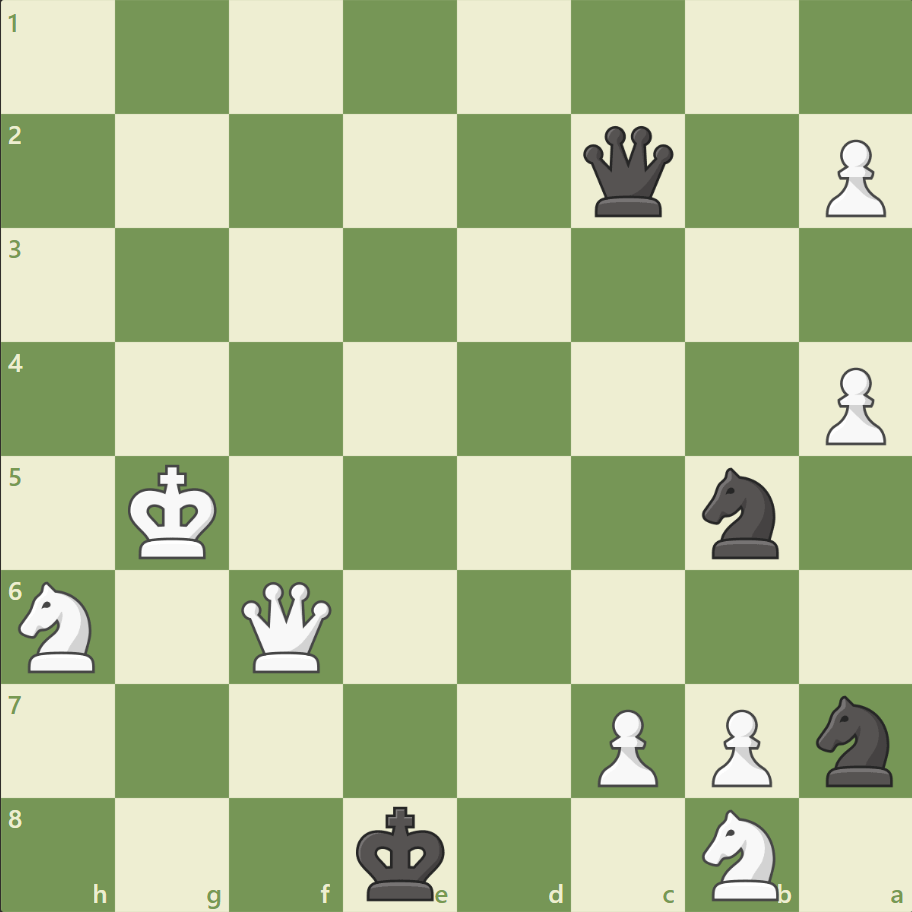K: (124, 458, 224, 566)
N: (692, 802, 789, 904), (11, 575, 108, 677)
P: (701, 700, 776, 791), (588, 700, 662, 791), (815, 359, 889, 450), (815, 132, 889, 223)
Q: (237, 576, 336, 676)
k: (351, 798, 451, 906)
n: (806, 688, 903, 791), (692, 461, 789, 564)
q: (578, 122, 677, 222)
